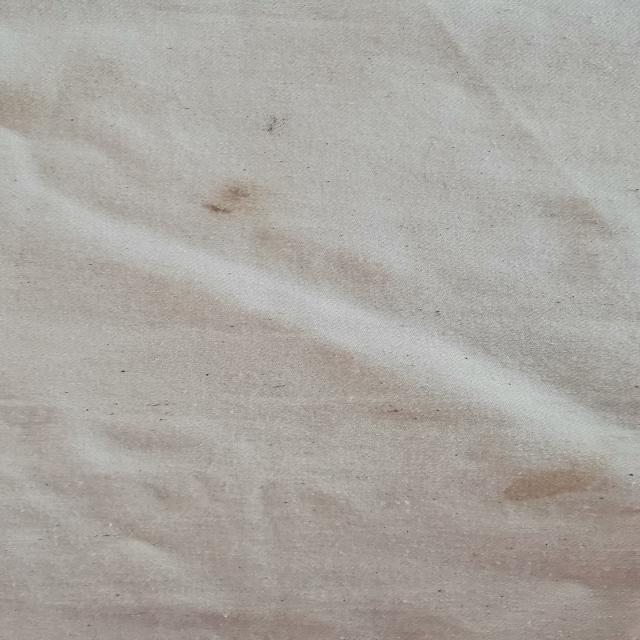taaaches: (188, 166, 270, 238), (496, 462, 596, 504)
